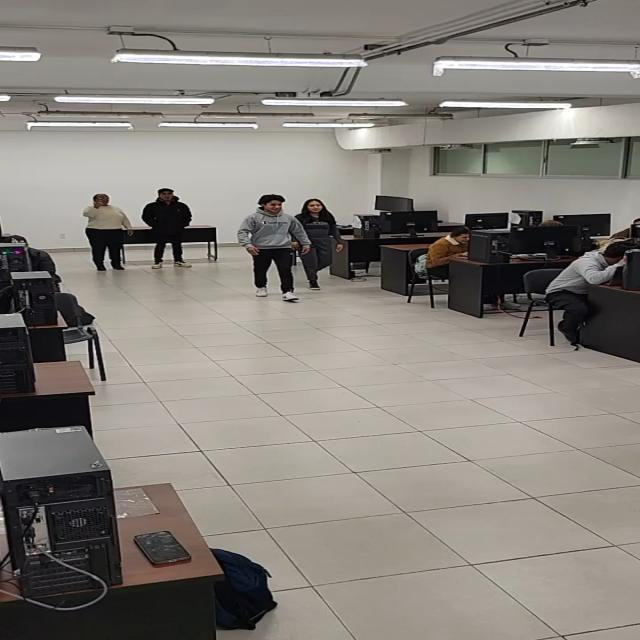Persona: (250, 196, 303, 302), (299, 198, 344, 288), (148, 187, 192, 268), (87, 193, 130, 264)
